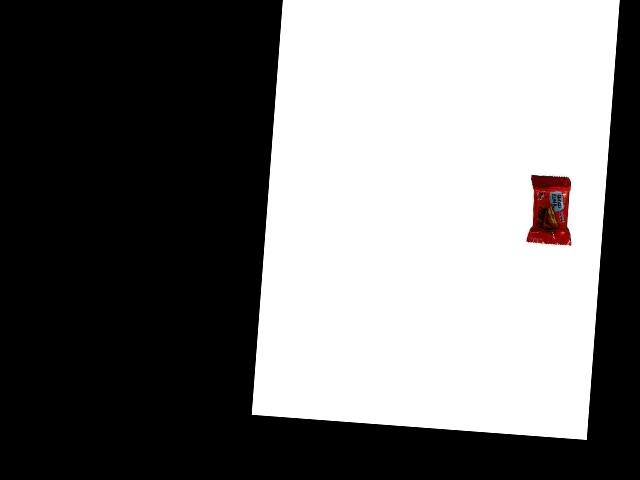chocolate: (527, 168, 581, 246)
